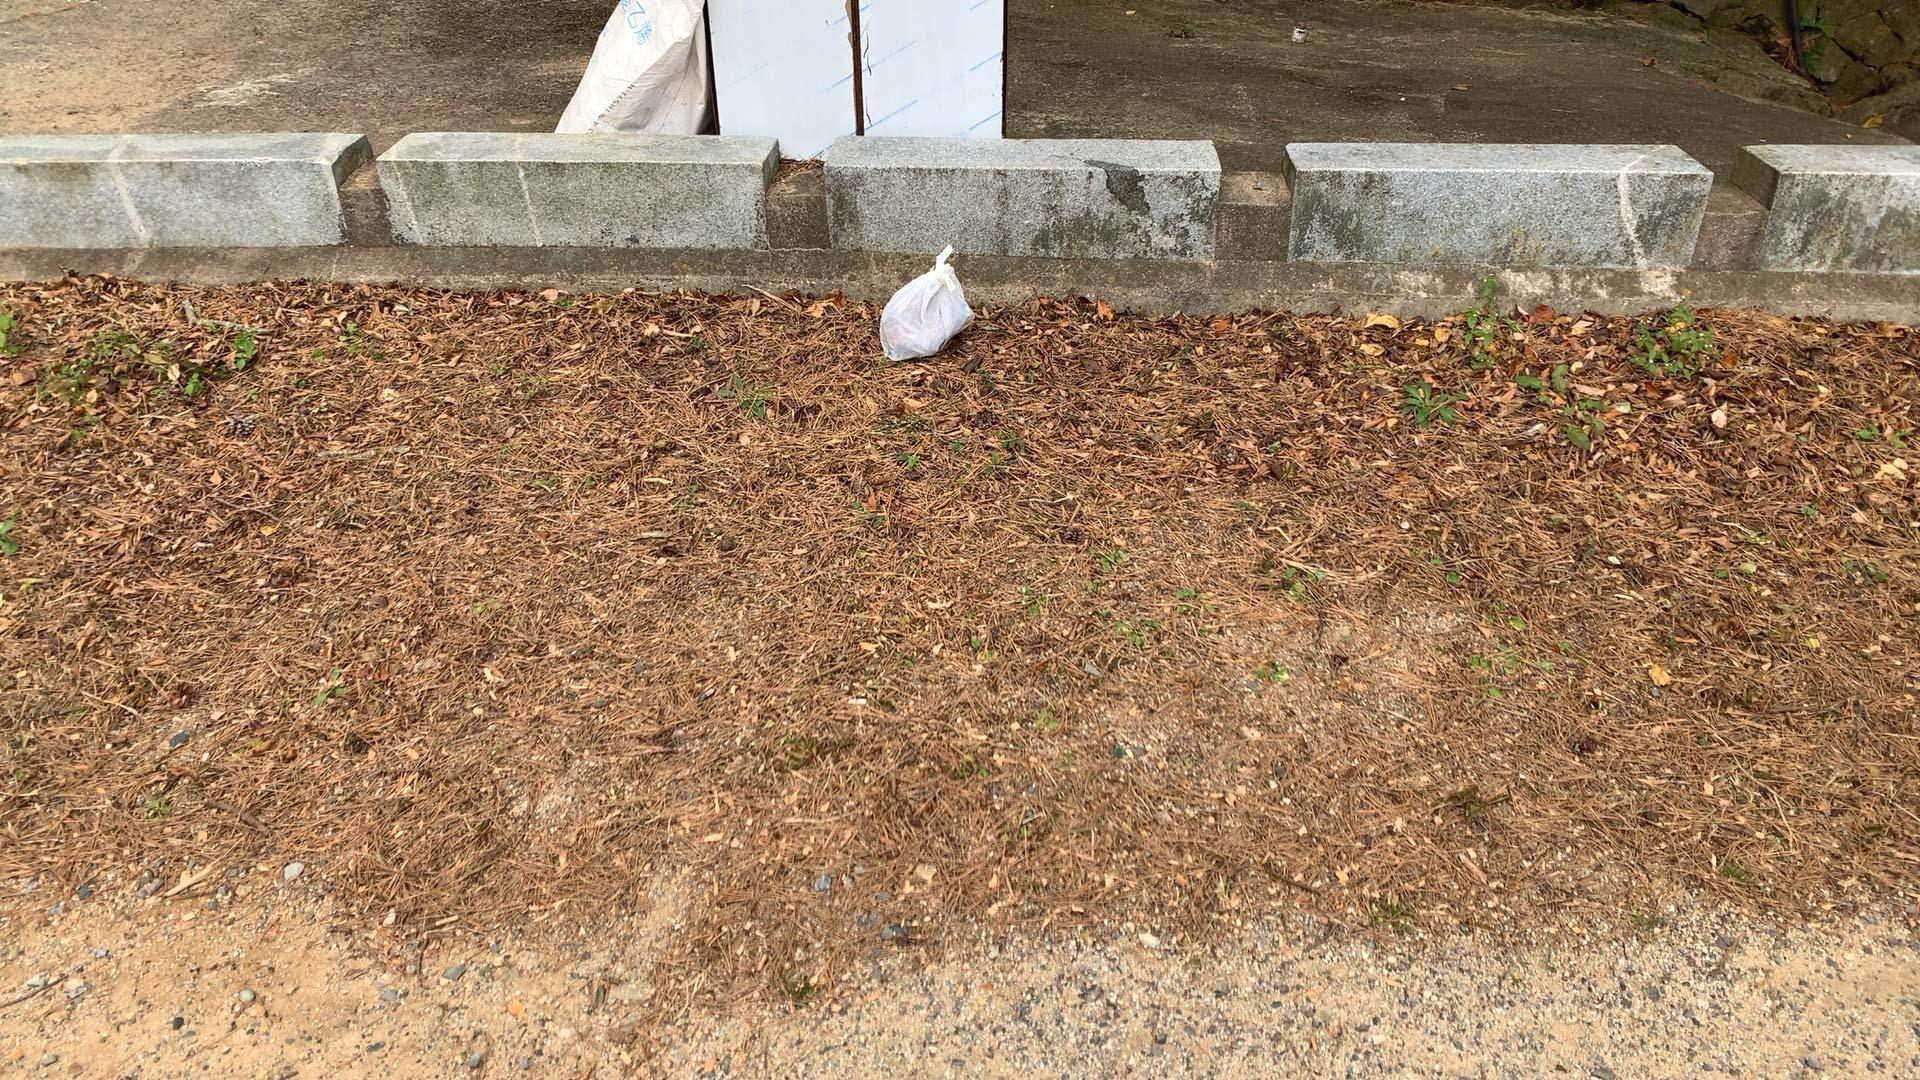white_bag: (870, 239, 978, 367)
